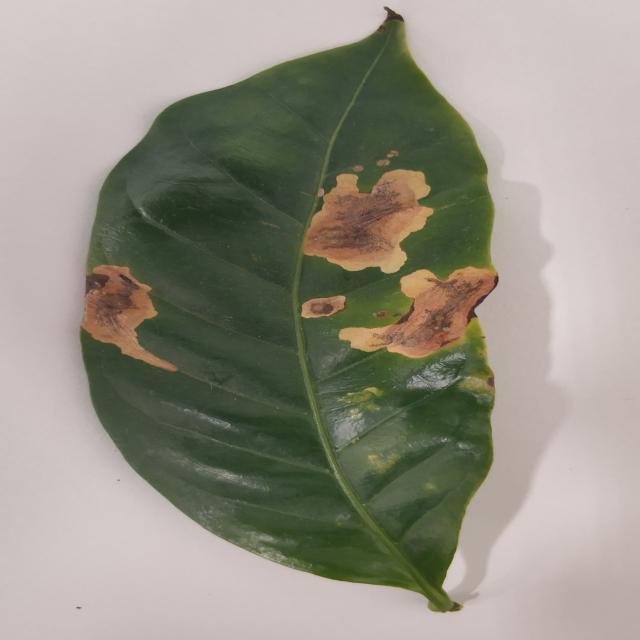Plaga-Minador: (78, 8, 501, 615)
